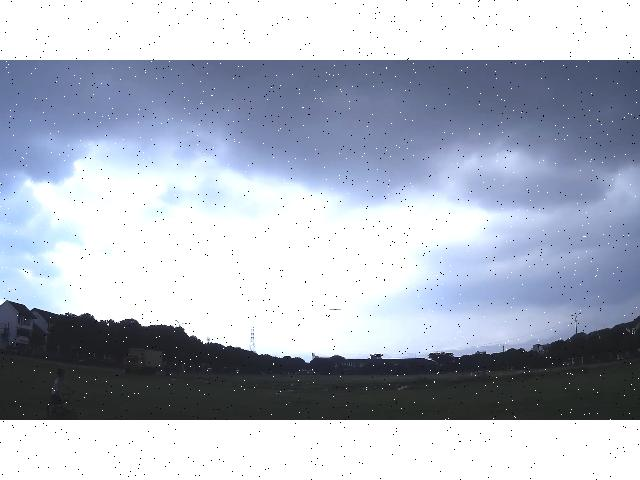Anti-Drone: (329, 308, 341, 310)
